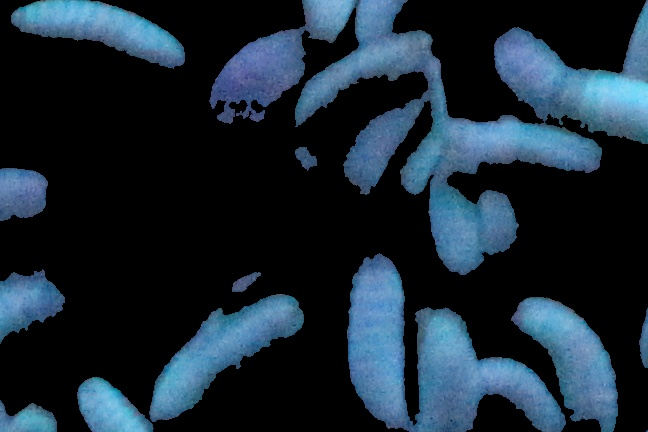larvae: (143, 277, 312, 432), (292, 35, 429, 179), (488, 24, 648, 137), (208, 29, 299, 216), (1, 1, 191, 90), (339, 80, 465, 213), (515, 292, 619, 432), (413, 121, 609, 182), (346, 244, 408, 430), (418, 296, 481, 432), (479, 357, 563, 432), (423, 183, 481, 279), (71, 374, 154, 432), (475, 183, 529, 263)
